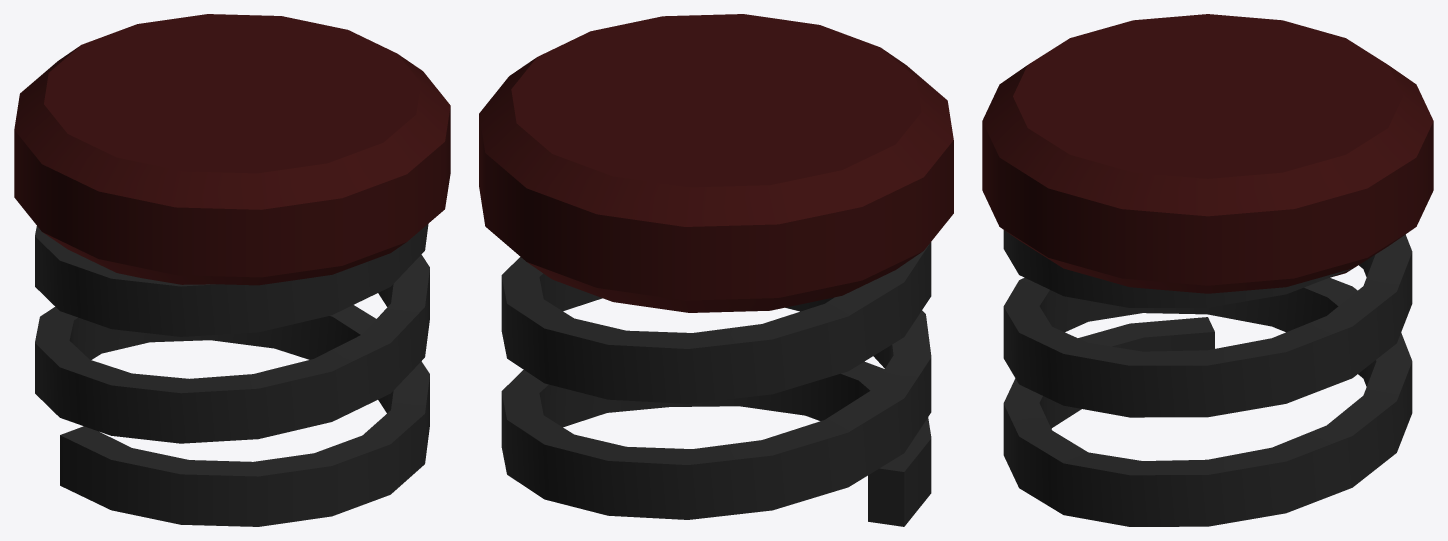
Rendered from Bouncer.obj.
3 renders of one model, left to right at view 1: azimuth 30°, elevation 25°; view 2: azimuth 150°, elevation 25°; view 3: azimuth 270°, elevation 25°, orthographic. The views are drawn at different scales.
Parts seen in each view (by area): view 1: Bouncer_Plane; view 2: Bouncer_Plane; view 3: Bouncer_Plane.
Boxes of the visible parts, x1,y1,x2,y2 form: Bouncer_Plane: [14, 14, 450, 526]; Bouncer_Plane: [479, 14, 953, 526]; Bouncer_Plane: [982, 14, 1433, 526].
Bounding box in the file's own units: 2.21 × 1.94 × 2.21.
